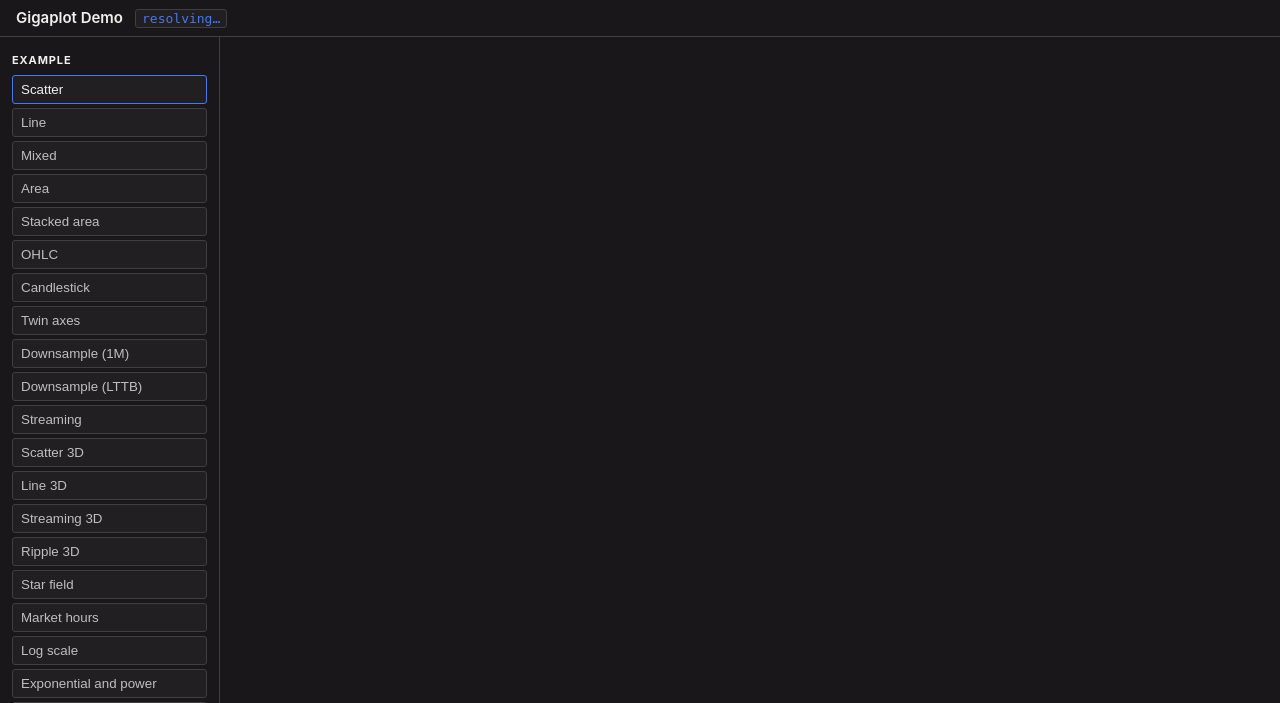
Scenario: draws the lorenz-3d example as a 3D plot
What coordinates should you click on to do the following:
click the button "Streaming 3D"
I would click on:
 (110, 518)
Its box is 12,504 -> 207,533.
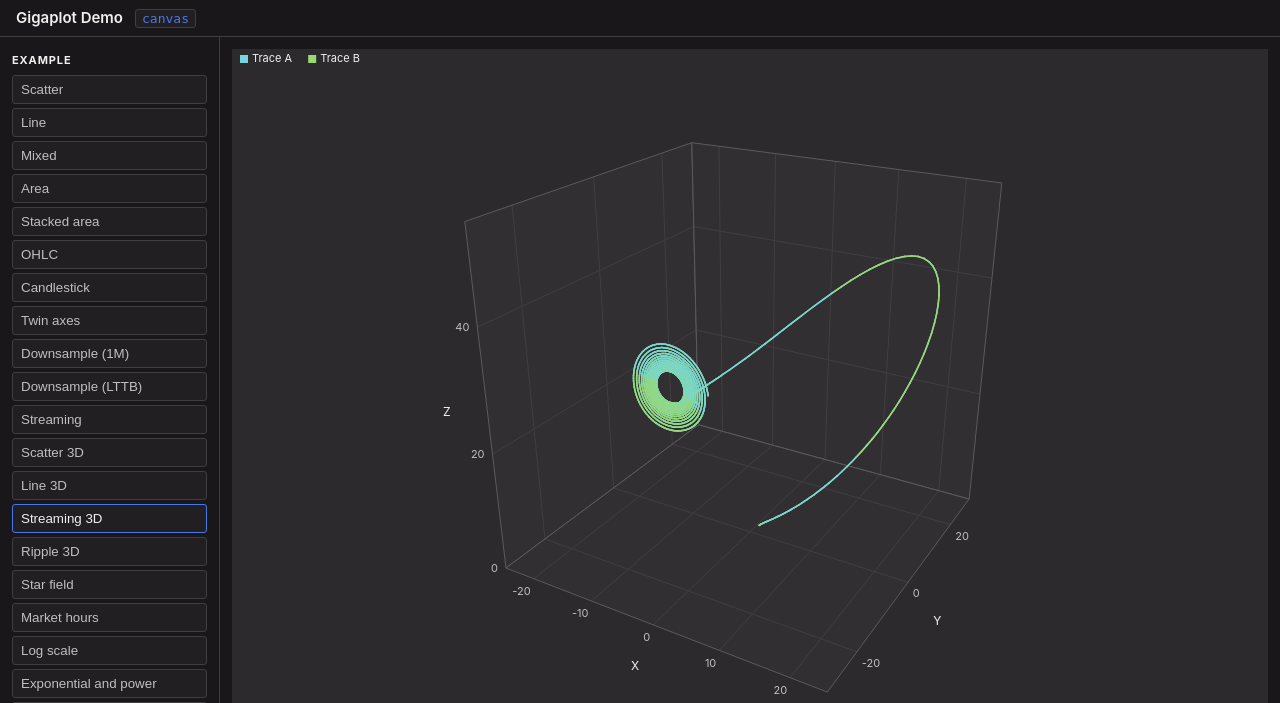
Check: the text with test id "active-renderer" reads "canvas", box 142,11 -> 189,26
